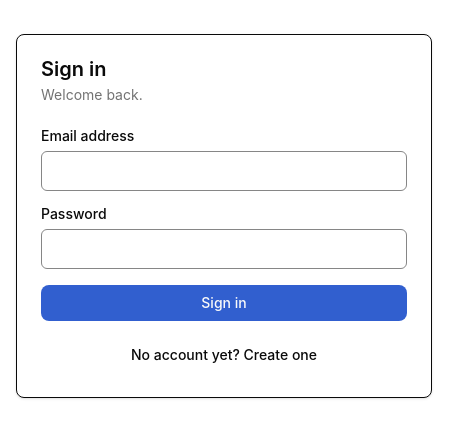
Test: a wrong password at sign-in › is a refusal on the form, not a lost session
This screenshot has width=449, height=434.
Type "someone@example.test" into the field labelled "Email address" at (224, 171), box [41,151,407,191]
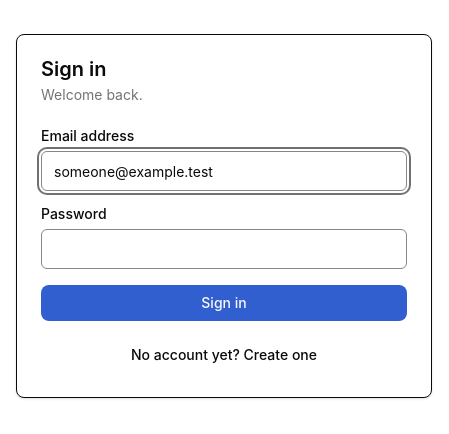
Type "not-the-password" into the password field labelled "Password" at (224, 249), box [41,229,407,269]
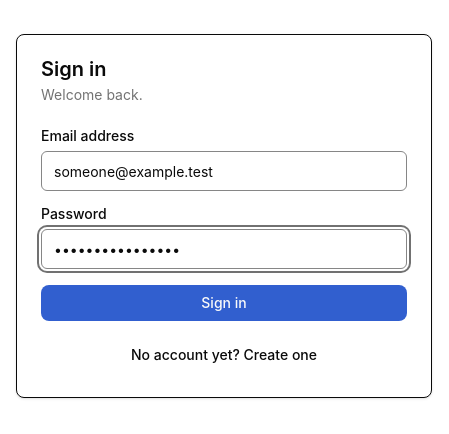
Click the button "Sign in" at (224, 303), box [41,285,407,321]
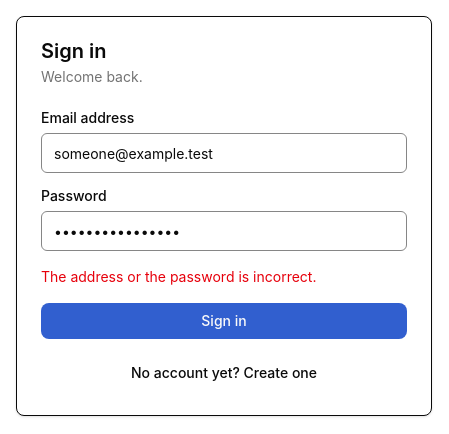
Check: the message reads "The address or the password is incorrect.", box [41,268,316,285]
